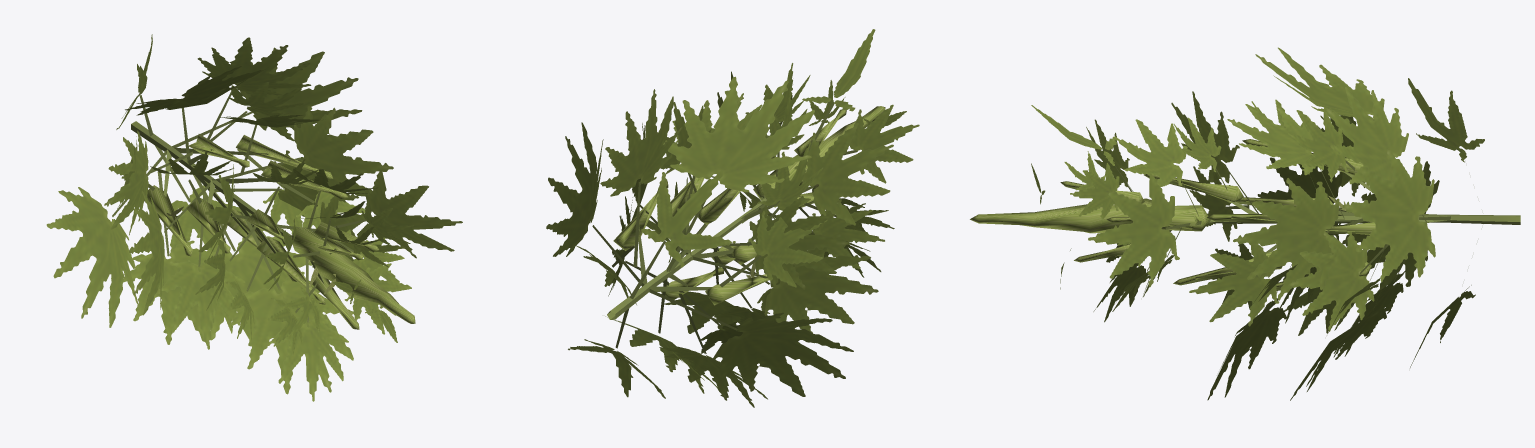
The model's file is p_haze_flowering_c1_cards.obj.
The picture shows the model from 3 angles, left to right: view 1: azimuth 30°, elevation 25°; view 2: azimuth 150°, elevation 25°; view 3: azimuth 270°, elevation 25°; orthographic projection.
Bounding box in the file's own units: 1.63 × 1.5 × 2.03.
1 material, 1 textured.
